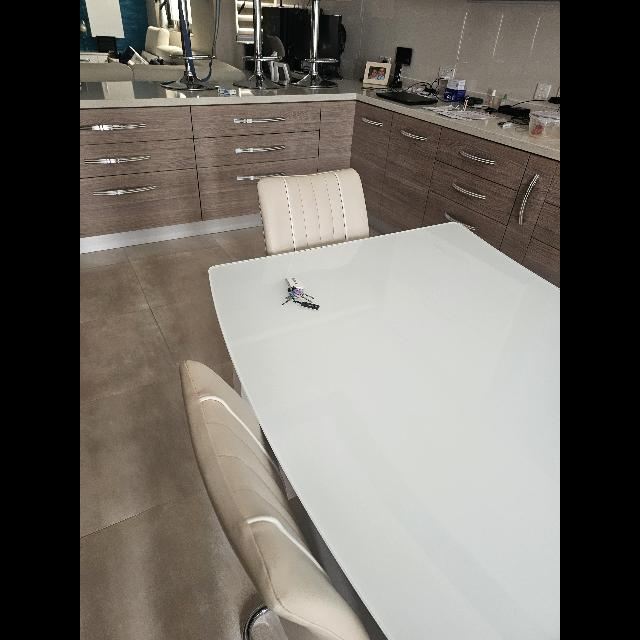Keys: (280, 277, 320, 311)
